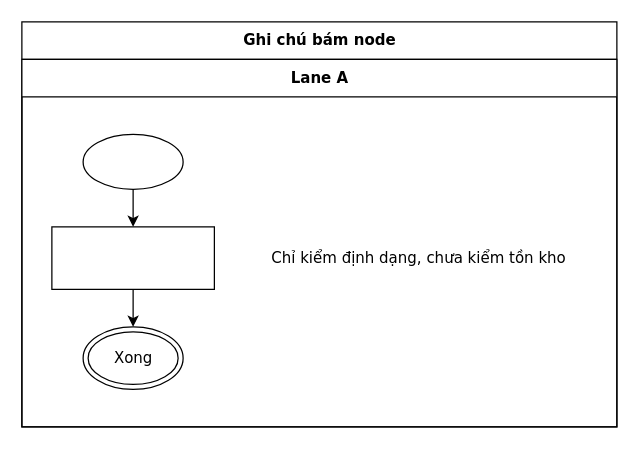
The diagram is 639 pixels wide and 449 high, and some of its shapes have lost their labels. The shapes that lost their labels are listed below. From the top down, each one's centre as x and y in pixels, then its label:
At [132,161]: "Vào".
At [132,257]: "Kiểm tra dữ liệu".
